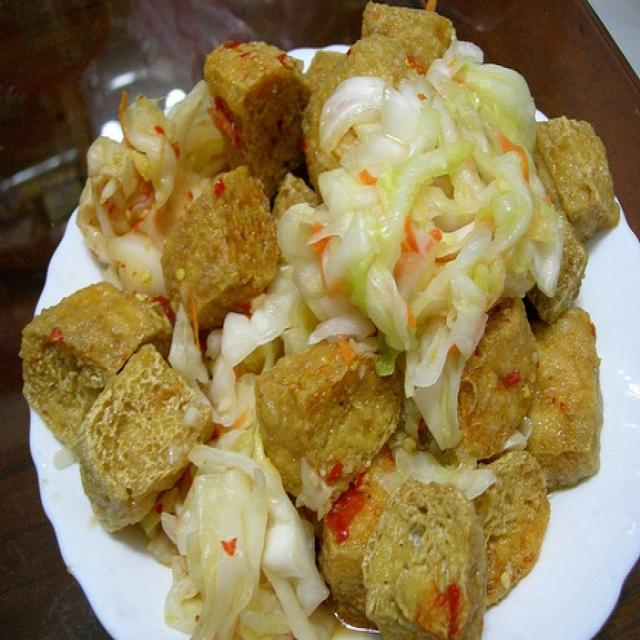豆腐料理: (18, 18, 613, 621)
